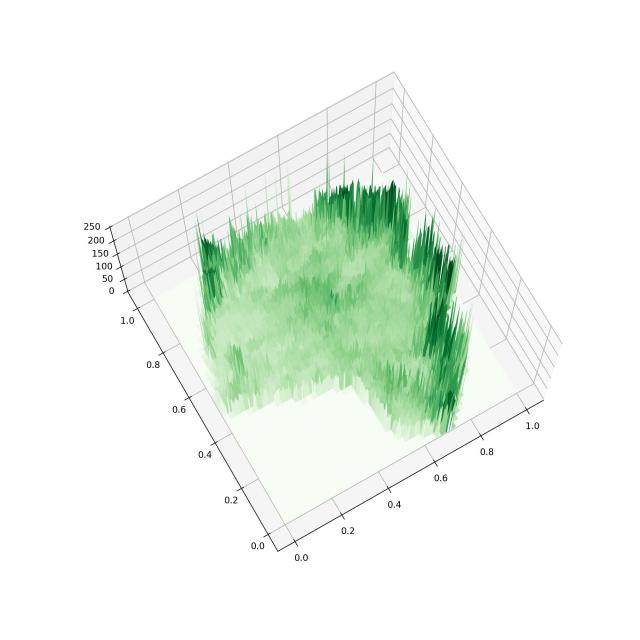fir: (72, 45, 584, 608)
